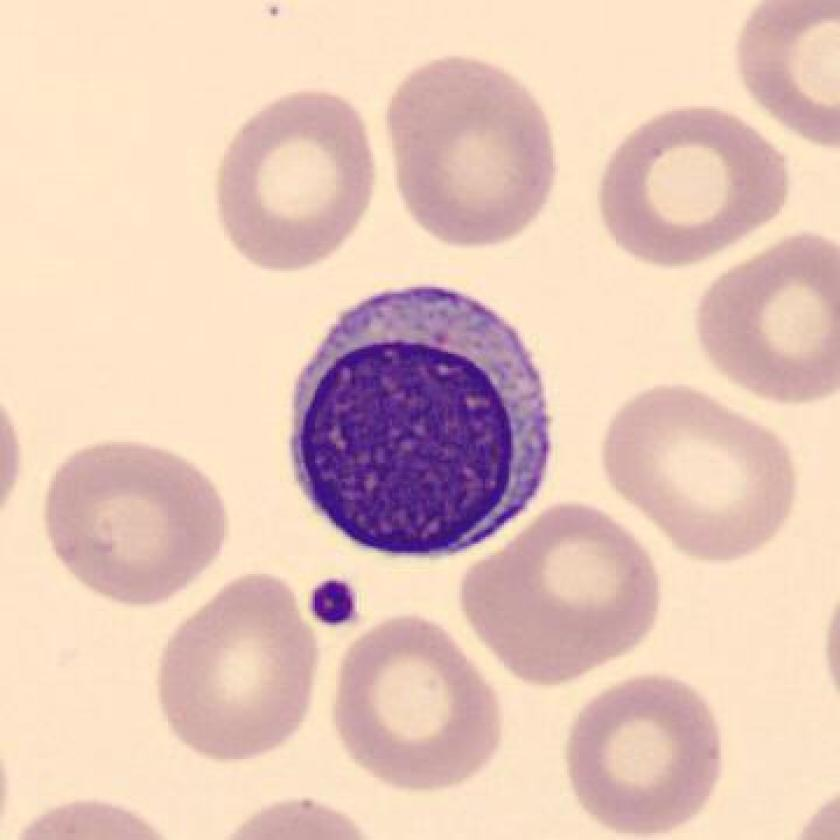lymphocyte: (272, 274, 568, 568)
